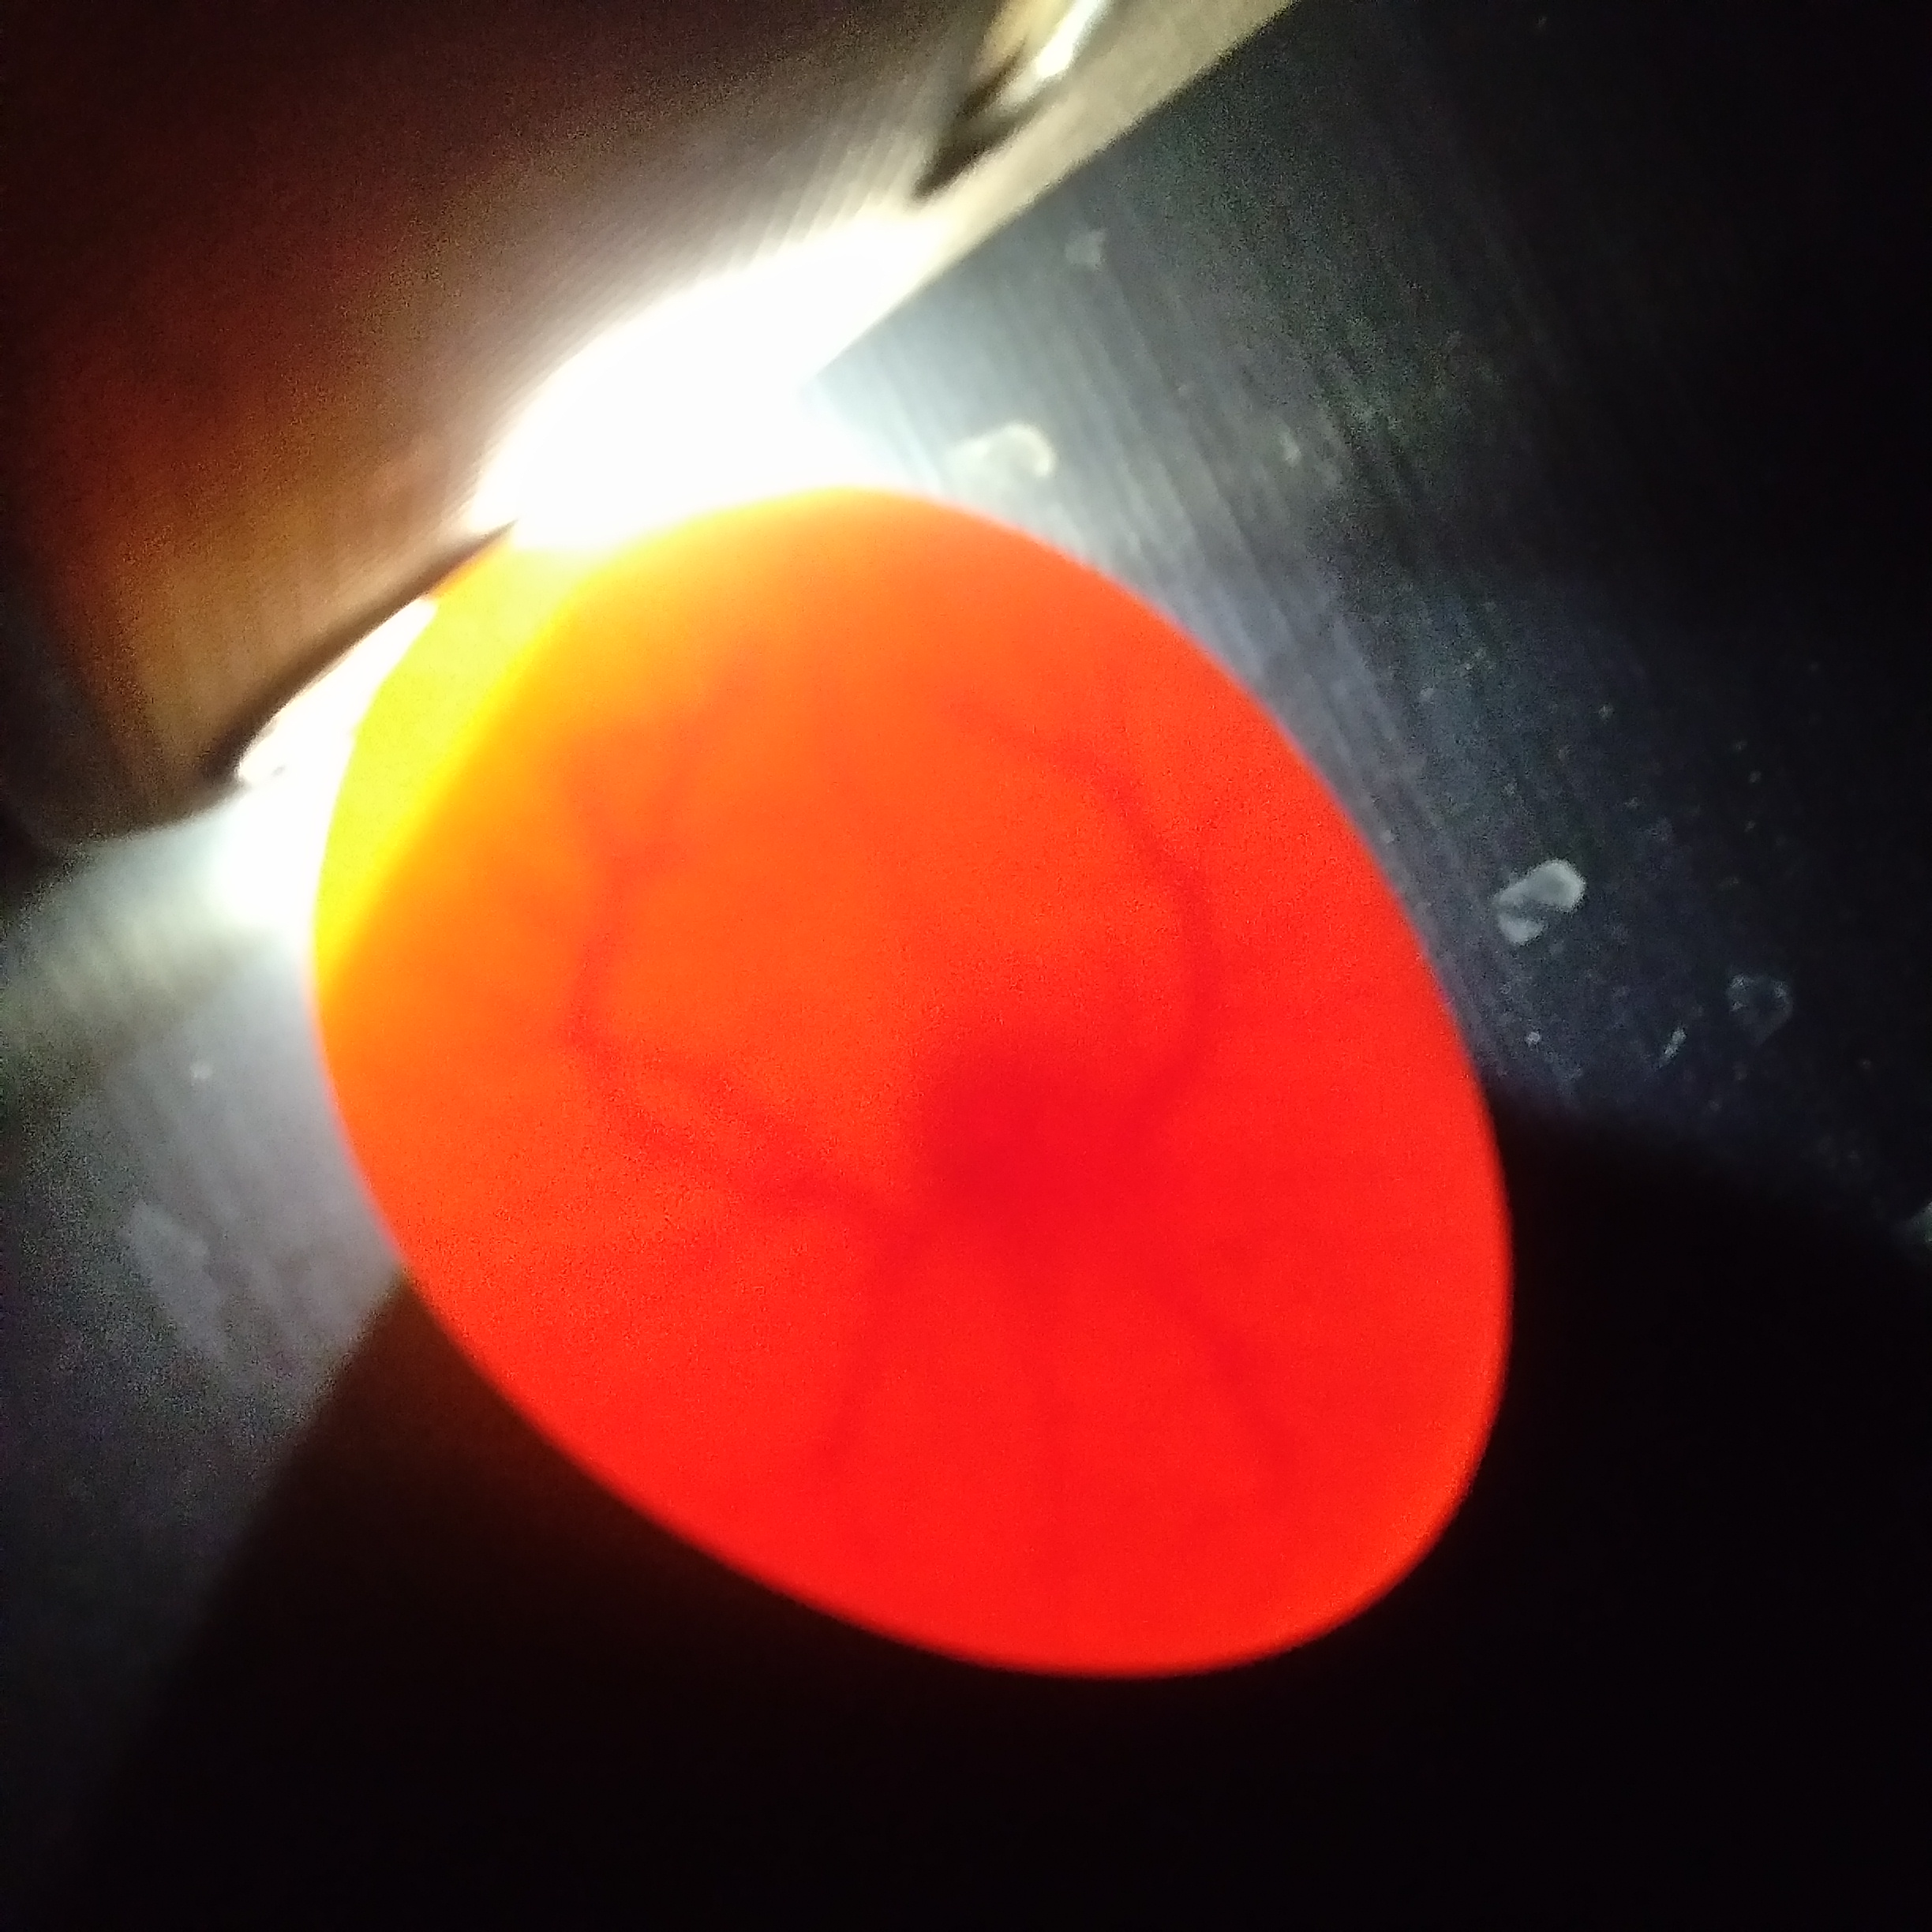bloodcell: (481, 794, 856, 1320), (1024, 732, 1346, 1024)
embryo: (915, 1058, 1113, 1263)
